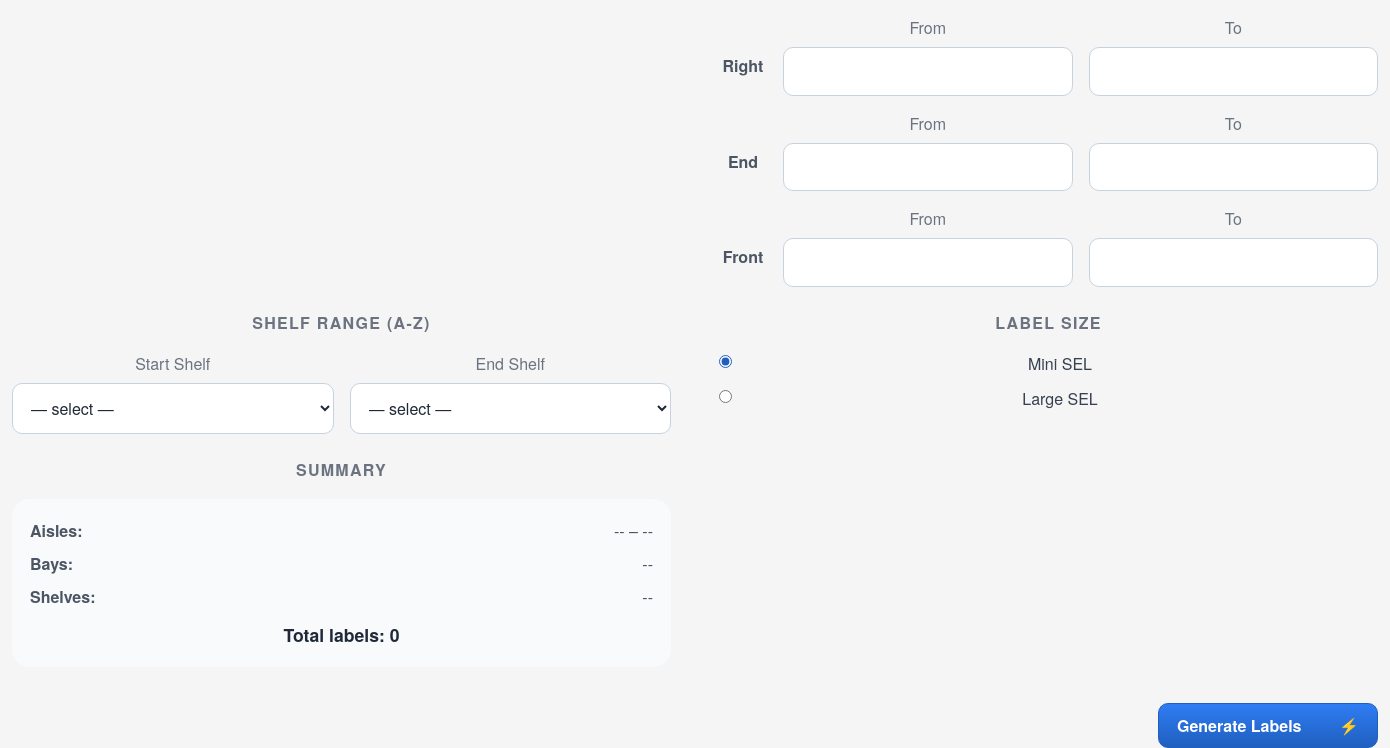
AisleLabelForm › shows required fields error when aisle and shelves are missing
(page scrolled)
Click the button "Generate Labels ⚡": (1268, 726) [1158,703,1378,747]
(page scrolled)
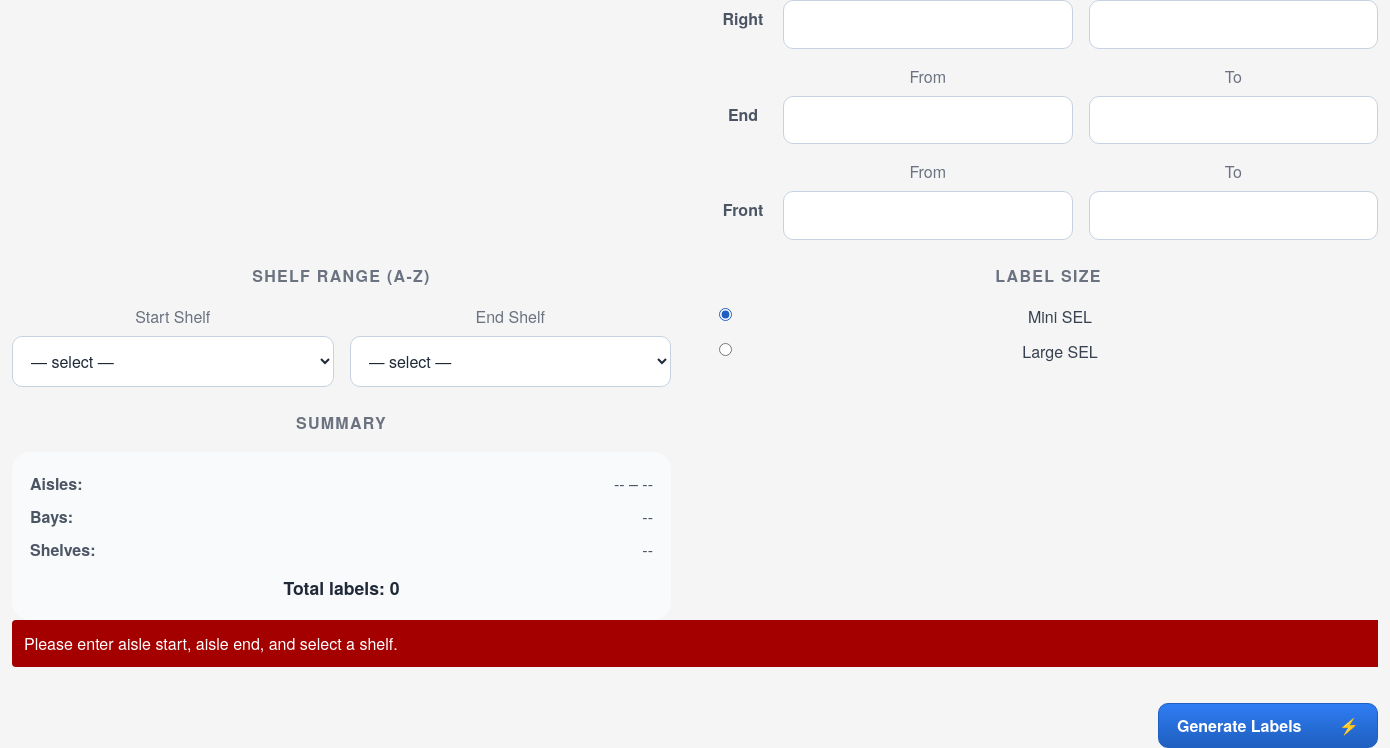
Expected: the message reads "Please enter aisle start, aisle end, and select a shelf.", [24,632,398,655]
